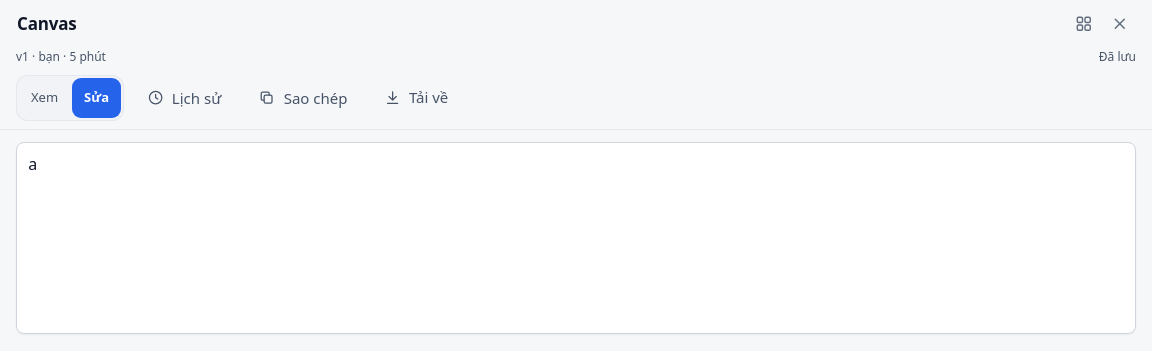
it: the save line › says the save waits for a network while the device has none
This screenshot has width=1152, height=351.
Replace the text in the text box named "Nội dung canvas" with "ab" at (576,238), box x1=16 y1=142 x2=1136 y2=334
Wait 1500 ms
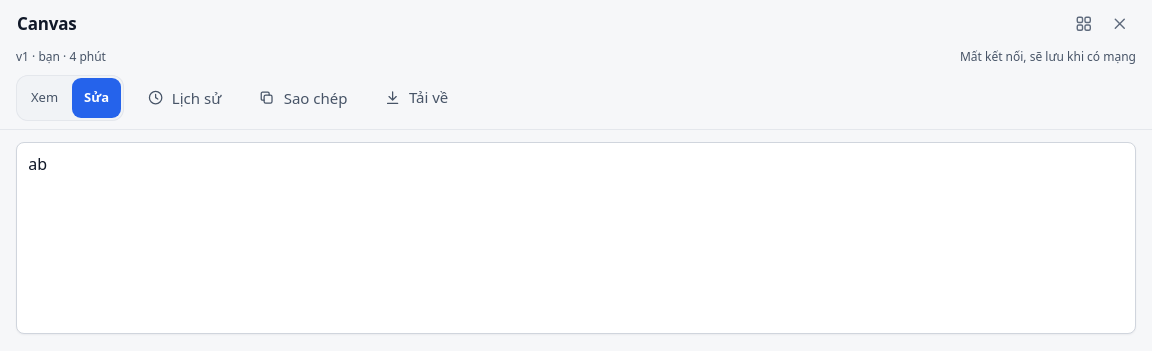
Now the message with class "canvas-save-state" reads "Mất kết nối, sẽ lưu khi có mạng", box x1=960 y1=48 x2=1136 y2=65
